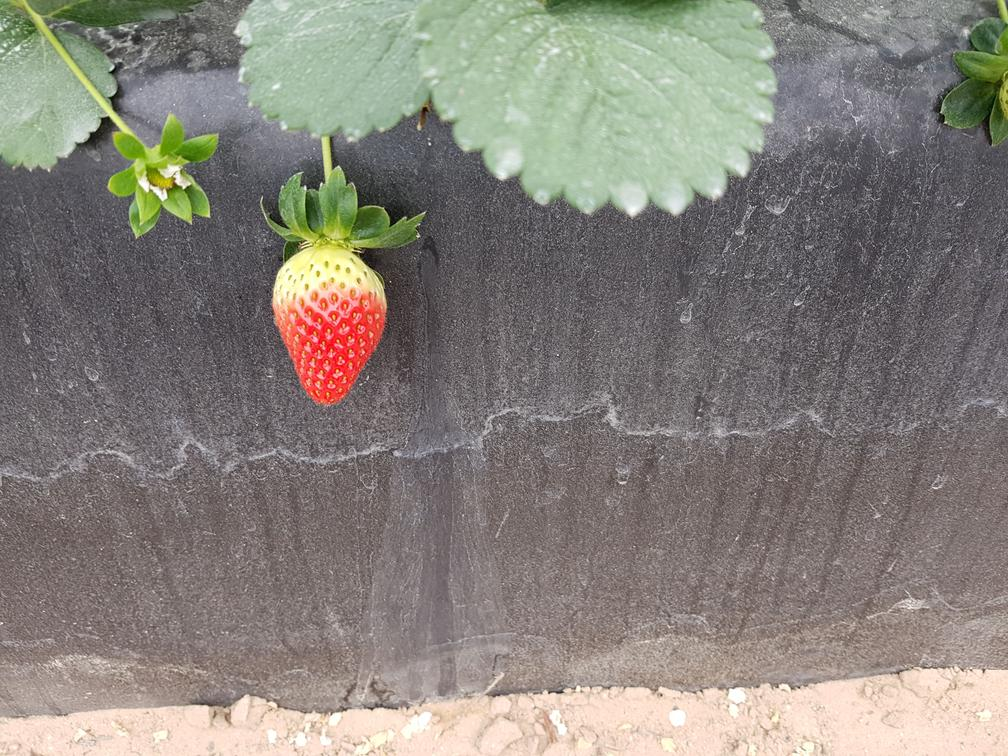Ripe: (269, 246, 392, 416)
